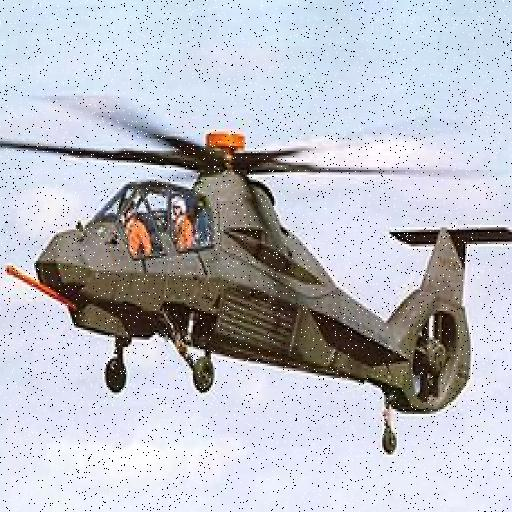helicopter: (1, 99, 512, 465)
